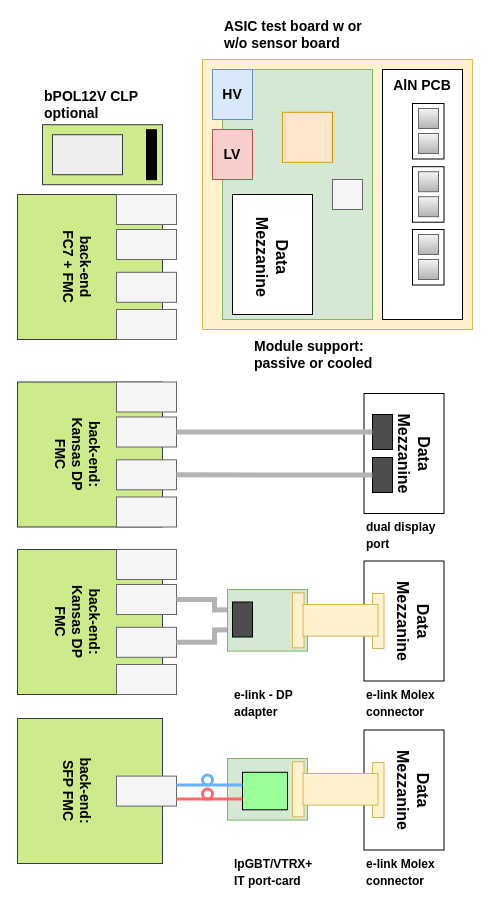
The diagram is 490 pixels wide and 905 high, and some of its shapes have lost their labels. The box of each missing label's shape, as (x1, y1, x2, y2) in pixels:
AMUX: (282, 111, 332, 162)
ASIC: (332, 178, 362, 210)
